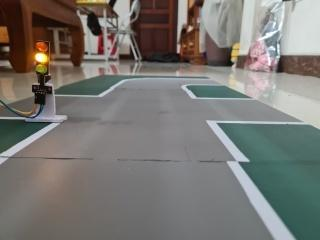yellow: (25, 32, 60, 85)
